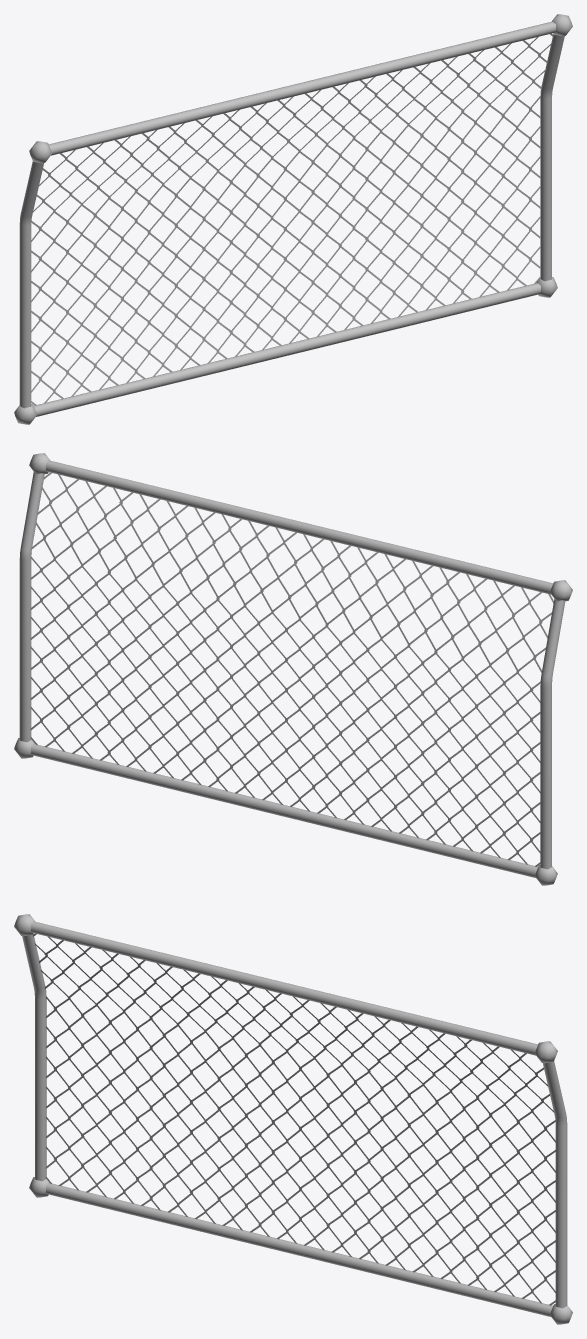
The model's file is Bent Fence.FBX.
3 views of the same model, one above another, from view 1: azimuth 30°, elevation 25°; view 2: azimuth 150°, elevation 25°; view 3: azimuth 330°, elevation 25° (orthographic).
Visible parts, largest first — view 1: Plane001, Plane002; view 2: Plane001, Plane002; view 3: Plane001, Plane002.
Part boxes in pixels (x1=…): Plane001: x1=31, y1=33, x2=553, y2=405; Plane002: x1=14, y1=14, x2=572, y2=424; Plane001: x1=30, y1=472, x2=553, y2=866; Plane002: x1=14, y1=453, x2=572, y2=885; Plane001: x1=33, y1=933, x2=555, y2=1305; Plane002: x1=14, y1=914, x2=572, y2=1324.
Bounding box in the file's own units: 164 × 85.04 × 14.21.
2 materials, 2 textured.
